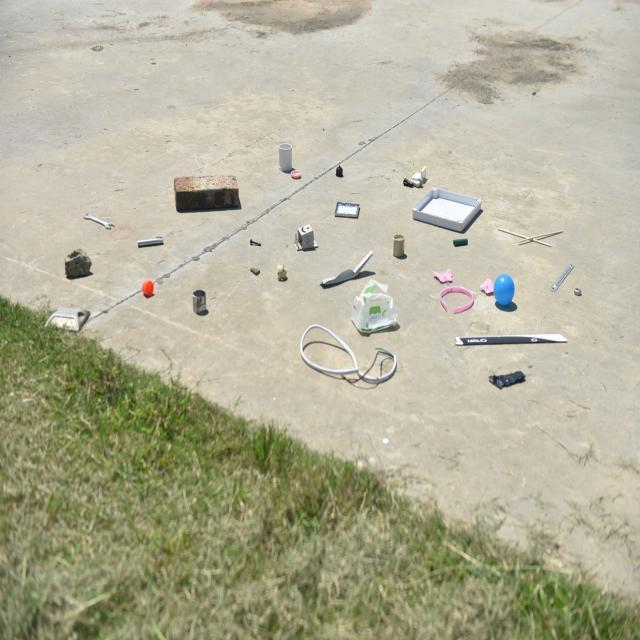Debris: (287, 337, 400, 395), (168, 166, 246, 215), (432, 269, 493, 323), (349, 283, 406, 338), (316, 243, 378, 292), (453, 332, 578, 356), (410, 195, 489, 231), (494, 222, 572, 255), (38, 295, 86, 335), (61, 249, 98, 285), (546, 258, 584, 292), (74, 205, 116, 235), (186, 286, 214, 324), (484, 372, 532, 390), (272, 142, 297, 176), (496, 275, 521, 306), (290, 223, 316, 252), (138, 279, 164, 306), (334, 198, 359, 222), (394, 232, 414, 261), (399, 172, 432, 188), (135, 238, 171, 252), (328, 163, 350, 180), (249, 232, 267, 251), (243, 260, 265, 275), (452, 241, 479, 252), (278, 260, 290, 282), (286, 173, 303, 184)
